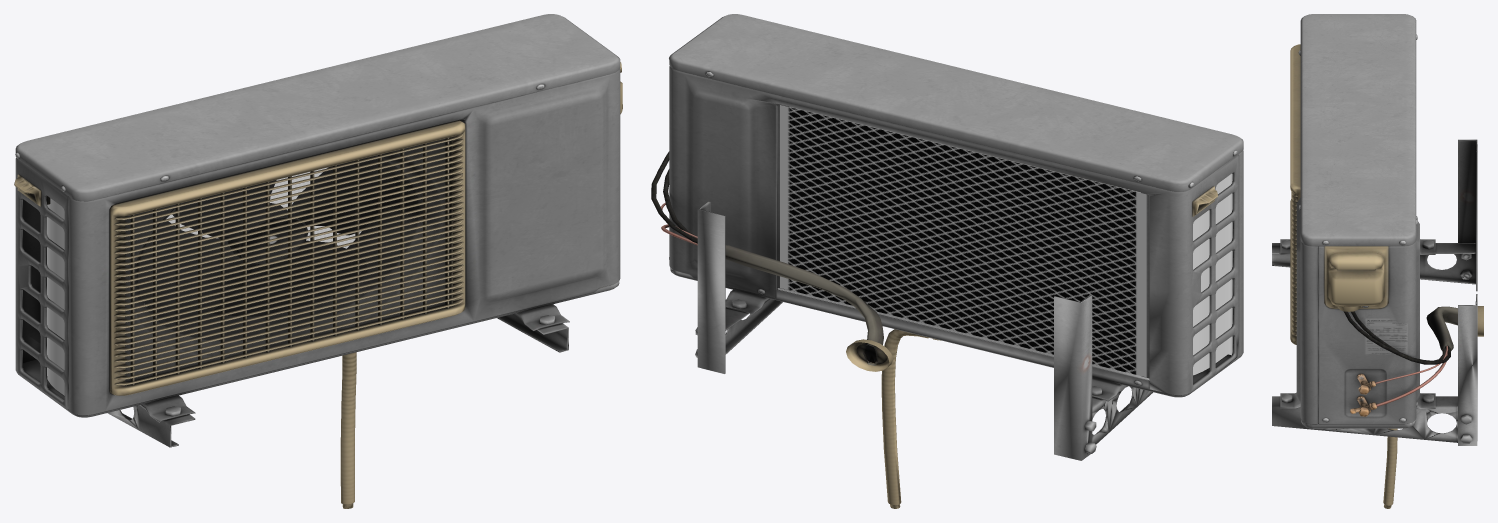
The model's file is aircon.glb.
3 renders of one model, left to right at view 1: azimuth 30°, elevation 25°; view 2: azimuth 150°, elevation 25°; view 3: azimuth 270°, elevation 25°, orthographic. The views are drawn at different scales.
Visible parts, largest first — view 1: aircon; view 2: aircon; view 3: aircon.
Part boxes in pixels (bbox=[...]): aircon: bbox=[14, 14, 622, 508]; aircon: bbox=[651, 14, 1243, 508]; aircon: bbox=[1272, 14, 1483, 508].
Size of the model in its own units: 1.2 by 0.85 by 0.45.
Materials: 2 (2 with a texture image).
